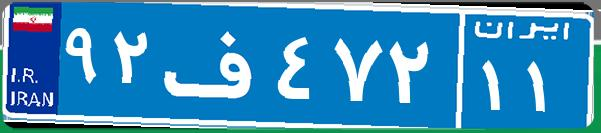1: (475, 38, 525, 113), (525, 38, 570, 115)
2: (385, 28, 445, 110), (110, 28, 158, 105)
4: (273, 28, 330, 110)
7: (330, 28, 385, 110)
9: (57, 26, 110, 107)
ف: (158, 15, 273, 115)
